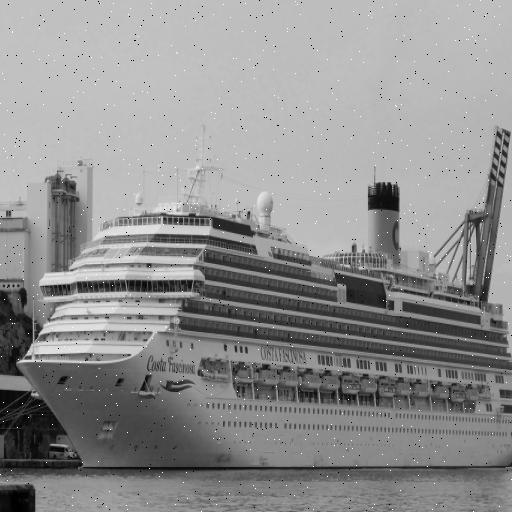cruises: (15, 117, 512, 475)
